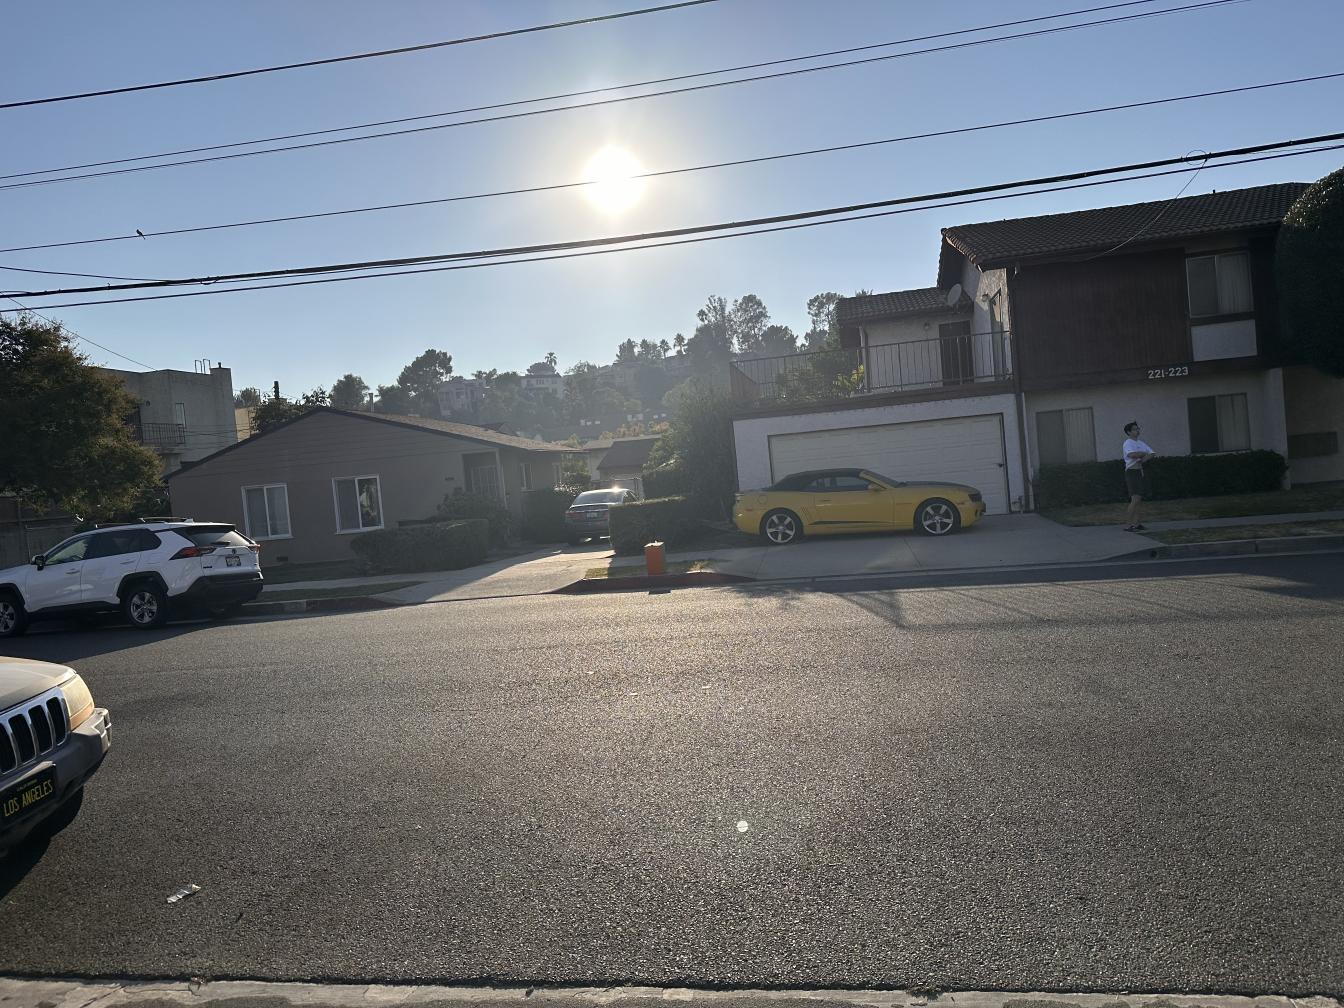curbs-laRr: (1170, 534, 1344, 563)
orange box: (646, 542, 669, 574)
